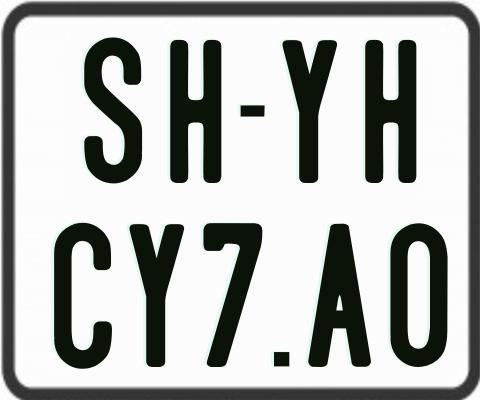0: (390, 221, 450, 368)
7: (201, 221, 261, 366)
A: (308, 221, 374, 368)
C: (52, 222, 113, 371)
H: (167, 39, 221, 184), (365, 39, 416, 183)
S: (81, 37, 142, 189)
Y: (281, 38, 337, 187), (129, 223, 184, 372)
